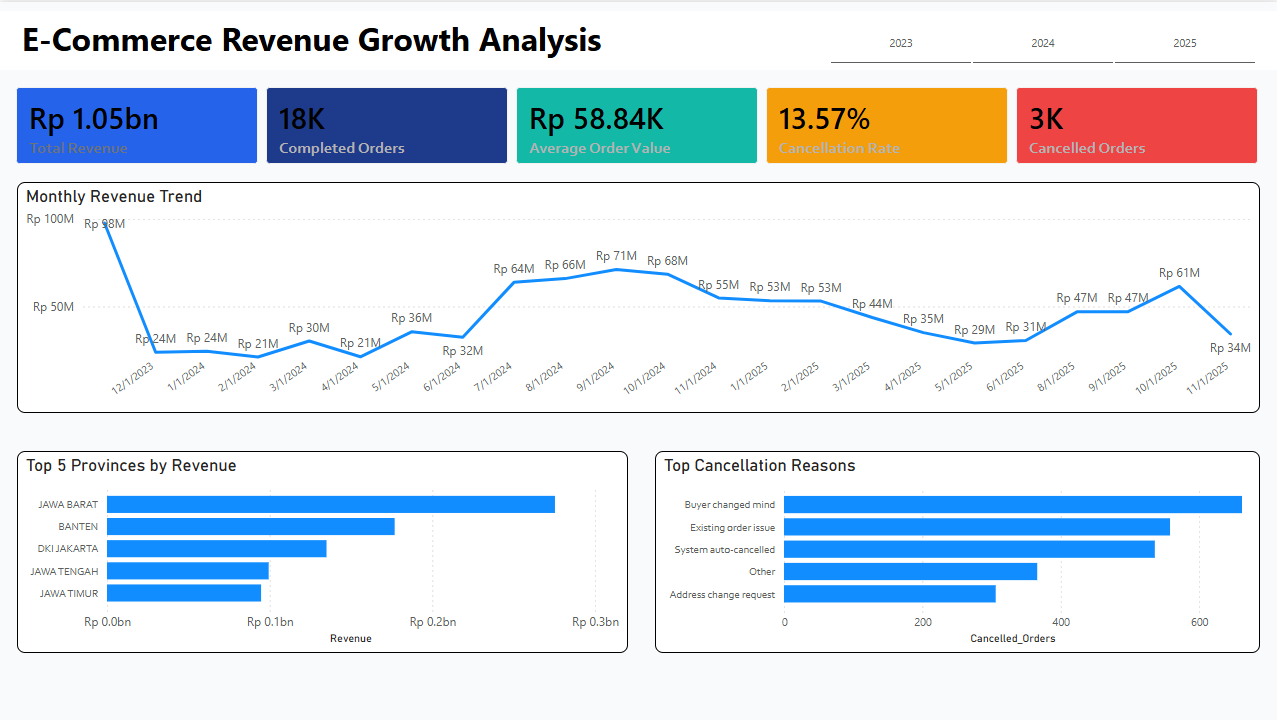

This screenshot's page, from the dashboard's own definition file:
{"tool":"powerbi","page":{"name":"Dashboard","canvas":[1280,720],"ordinal":0},"visuals":[{"type":"cardVisual","fields":{"Data":["cleaned_orders.Total_Revenue","cleaned_orders.Total_Orders","cleaned_orders.Average_Order_Value","cleaned_orders.Cancellation_Rate","cleaned_orders.Cancelled_Orders"]},"box":[0,67.7,1280,111],"z":0},{"type":"lineChart","title":"Monthly Revenue Trend","fields":{"Y":["cleaned_orders.Total_Revenue"],"Category":["cleaned_orders.Order_Month_Label"]},"box":[18.4,180,1242.5,230.6],"z":1000},{"type":"clusteredBarChart","title":"Top 5 Provinces by Revenue","fields":{"Category":["cleaned_orders.province"],"Y":["cleaned_orders.Total_Revenue"]},"box":[18.4,448.8,610.4,201.7],"z":2000},{"type":"clusteredBarChart","title":"Top Cancellation Reasons","fields":{"Y":["cleaned_orders.Cancelled_Orders"],"Category":["cleaned_orders.Cancellation_Reason_Short"]},"box":[656.4,448.8,604.5,201.7],"z":3000},{"type":"slicer","fields":{"Values":["cleaned_orders.Order_Year_Clean"]},"box":[806.2,9.2,473.8,58.5],"z":6000},{"type":"textbox","title":"E-Commerce Revenue Growth Analysis Revenue performance, order behavior, and cancellation analysis","box":[0,9.2,806.2,58.5],"z":7000}]}

Visuals, with their boxes in screenshot pixels (x1, y1, x2, y2), scaled from the page's 1280x720 canvas onto the 1277x720 screenshot:
cardVisual - cleaned_orders.Total_Revenue x cleaned_orders.Total_Orders: bbox=(0, 68, 1276, 179)
"Monthly Revenue Trend" lineChart: bbox=(18, 180, 1258, 411)
"Top 5 Provinces by Revenue" clusteredBarChart: bbox=(18, 449, 627, 650)
"Top Cancellation Reasons" clusteredBarChart: bbox=(655, 449, 1258, 650)
slicer - cleaned_orders.Order_Year_Clean: bbox=(804, 9, 1276, 68)
"E-Commerce Revenue Growth Analysis Revenue performance, order behavior, and cancellation analysis" textbox: bbox=(0, 9, 804, 68)
